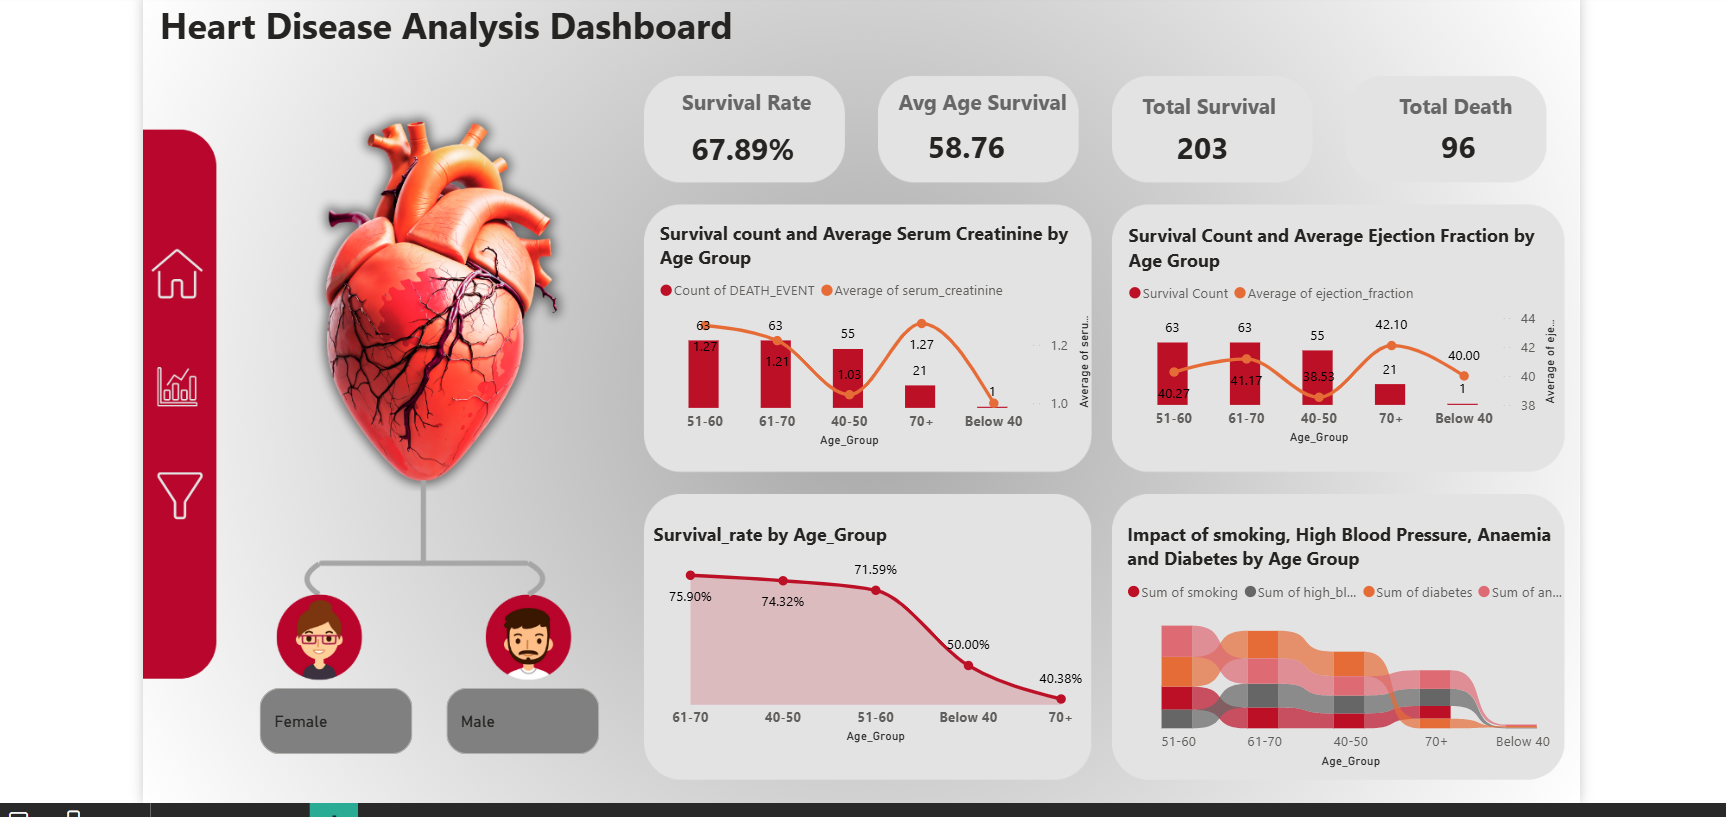

The page's visual inventory and layout, read from the dashboard file:
{"tool":"powerbi","page":{"name":"Heart_Deasease","canvas":[1280,720],"ordinal":0},"visuals":[{"type":"textbox","box":[9.6,0,528.3,63.1],"z":0},{"type":"card","fields":{"Values":["heart_Disease_clinical_records_.Survival_rate"]},"box":[451.2,109.8,167.1,54.9],"z":1000},{"type":"card","fields":{"Values":["heart_Disease_clinical_records_.Average_Age_Survival"]},"box":[652.4,119.5,162.2,34.1],"z":2000},{"type":"card","fields":{"Values":["heart_Disease_clinical_records_.Total_Surviours"]},"box":[856.1,114.6,175.6,45.1],"z":3000},{"type":"card","fields":{"Values":["heart_Disease_clinical_records_.Total_Death"]},"box":[1108.5,117.1,125.6,39],"z":4000},{"type":"textbox","box":[442.7,78,189,47.6],"z":5000},{"type":"textbox","box":[631.7,78,232.9,39],"z":6000},{"type":"textbox","box":[873.2,81.7,153.7,41.5],"z":7000},{"type":"textbox","box":[1108.5,81.7,120.7,37.8],"z":8000},{"type":"lineClusteredColumnComboChart","title":"Survival count and Average Serum Creatinine by Age Group ","fields":{"Category":["heart_Disease_clinical_records_.Age_Group"],"Y":["CountNonNull(heart_Disease_clinical_records_.DEATH_EVENT)"],"Y2":["Avg(heart_Disease_clinical_records_.serum_creatinine)"]},"box":[454.9,200,393.9,207.3],"z":9000},{"type":"lineClusteredColumnComboChart","title":"Survival Count and Average Ejection Fraction by Age Group","fields":{"Category":["heart_Disease_clinical_records_.Age_Group"],"Y":["CountNonNull(heart_Disease_clinical_records_.DEATH_EVENT)"],"Y2":["Avg(heart_Disease_clinical_records_.ejection_fraction)"]},"box":[873.2,202.4,391.5,202.4],"z":10000},{"type":"lineChart","fields":{"Category":["heart_Disease_clinical_records_.Age_Group"],"Y":["heart_Disease_clinical_records_.Survival_rate"]},"box":[450,468.3,406.1,202.4],"z":11000},{"type":"ribbonChart","title":"Impact of smoking, High Blood Pressure, Anaemia and Diabetes by Age Group","fields":{"Category":["heart_Disease_clinical_records_.Age_Group"],"Y":["Sum(heart_Disease_clinical_records_.smoking)","Sum(heart_Disease_clinical_records_.high_blood_pressure)","Sum(heart_Disease_clinical_records_.diabetes)","Sum(heart_Disease_clinical_records_.anaemia)"]},"box":[872,468.3,408.5,224.4],"z":12000},{"type":"advancedSlicerVisual","fields":{"Values":["heart_Disease_clinical_records_.Gender"]},"box":[98.8,612.2,313.4,69.5],"z":13000}]}

Visuals, with their boxes on the page's 1280x720 design canvas (x1, y1, x2, y2). These are canvas units, not pixel positions in the 1726x817 screenshot, which may show the page scaled, cropped or inside an application window:
textbox: bbox(10, 0, 538, 63)
card - heart_Disease_clinical_records_.Survival_rate: bbox(451, 110, 618, 165)
card - heart_Disease_clinical_records_.Average_Age_Survival: bbox(652, 120, 815, 154)
card - heart_Disease_clinical_records_.Total_Surviours: bbox(856, 115, 1032, 160)
card - heart_Disease_clinical_records_.Total_Death: bbox(1108, 117, 1234, 156)
textbox: bbox(443, 78, 632, 126)
textbox: bbox(632, 78, 865, 117)
textbox: bbox(873, 82, 1027, 123)
textbox: bbox(1108, 82, 1229, 120)
"Survival count and Average Serum Creatinine by Age Group " lineClusteredColumnComboChart: bbox(455, 200, 849, 407)
"Survival Count and Average Ejection Fraction by Age Group" lineClusteredColumnComboChart: bbox(873, 202, 1265, 405)
lineChart - heart_Disease_clinical_records_.Age_Group x heart_Disease_clinical_records_.Survival_rate: bbox(450, 468, 856, 671)
"Impact of smoking, High Blood Pressure, Anaemia and Diabetes by Age Group" ribbonChart: bbox(872, 468, 1280, 693)
advancedSlicerVisual - heart_Disease_clinical_records_.Gender: bbox(99, 612, 412, 682)
